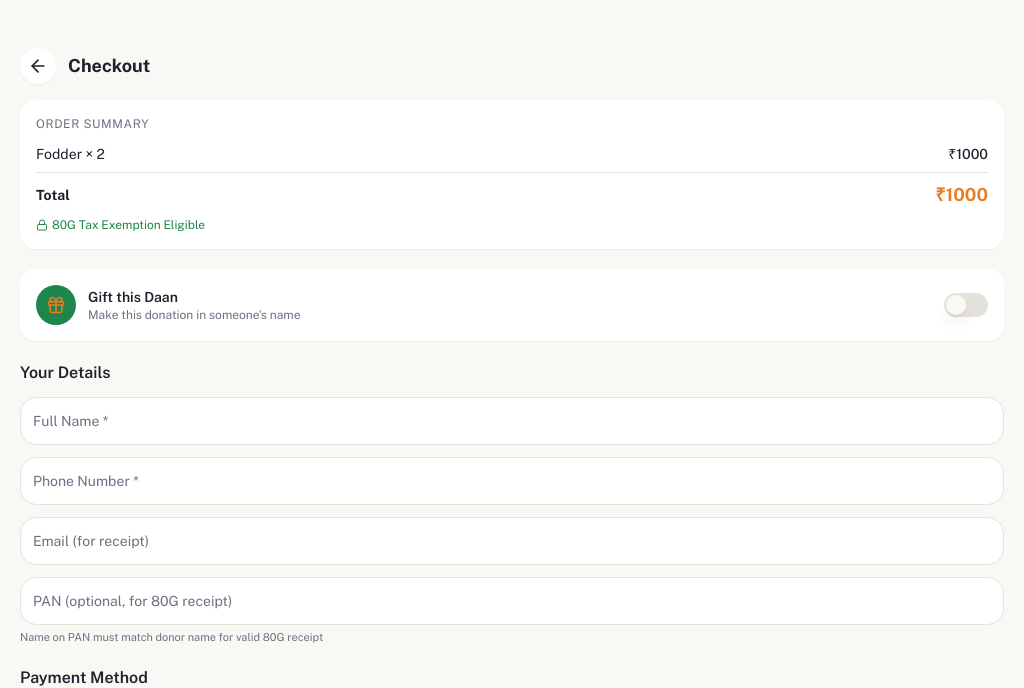
Test: PAN validation › shows error for invalid PAN
The image size is (1024, 688).
Type "123" into the field with placeholder "PAN (optional, for 80G receipt)".
click(512, 601); type("123")  # box [20,577,1004,625]
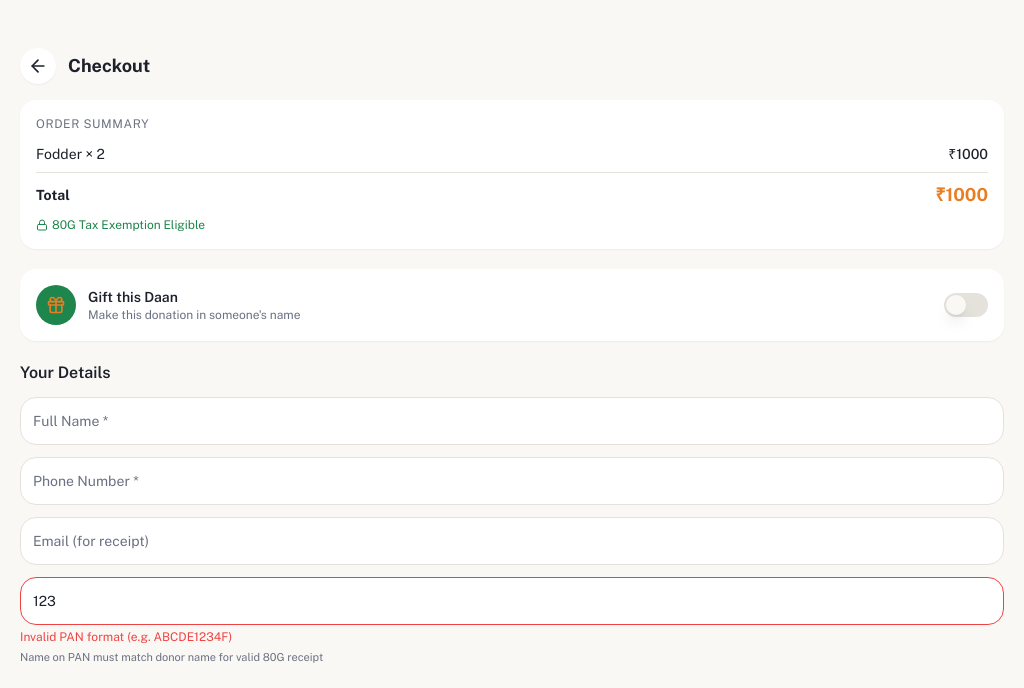
Check: the text "Invalid PAN format (e.g. ABCDE1234F)" is shown, box [20,630,232,644]
